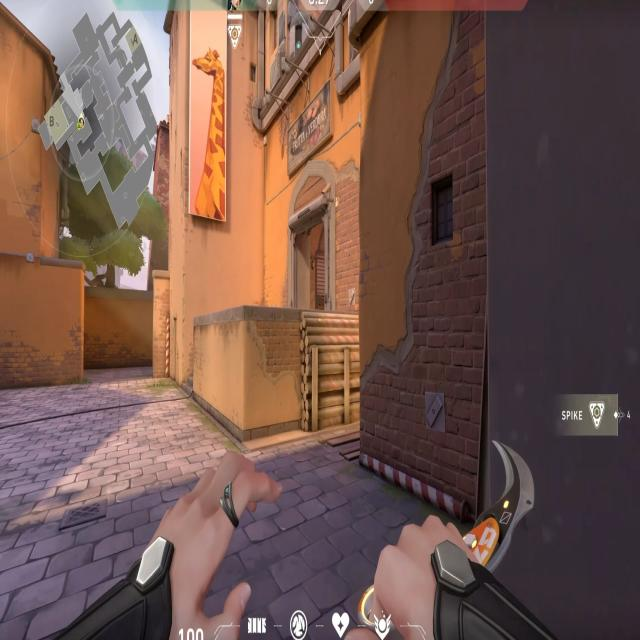B_Cubby: (237, 302, 358, 434)
